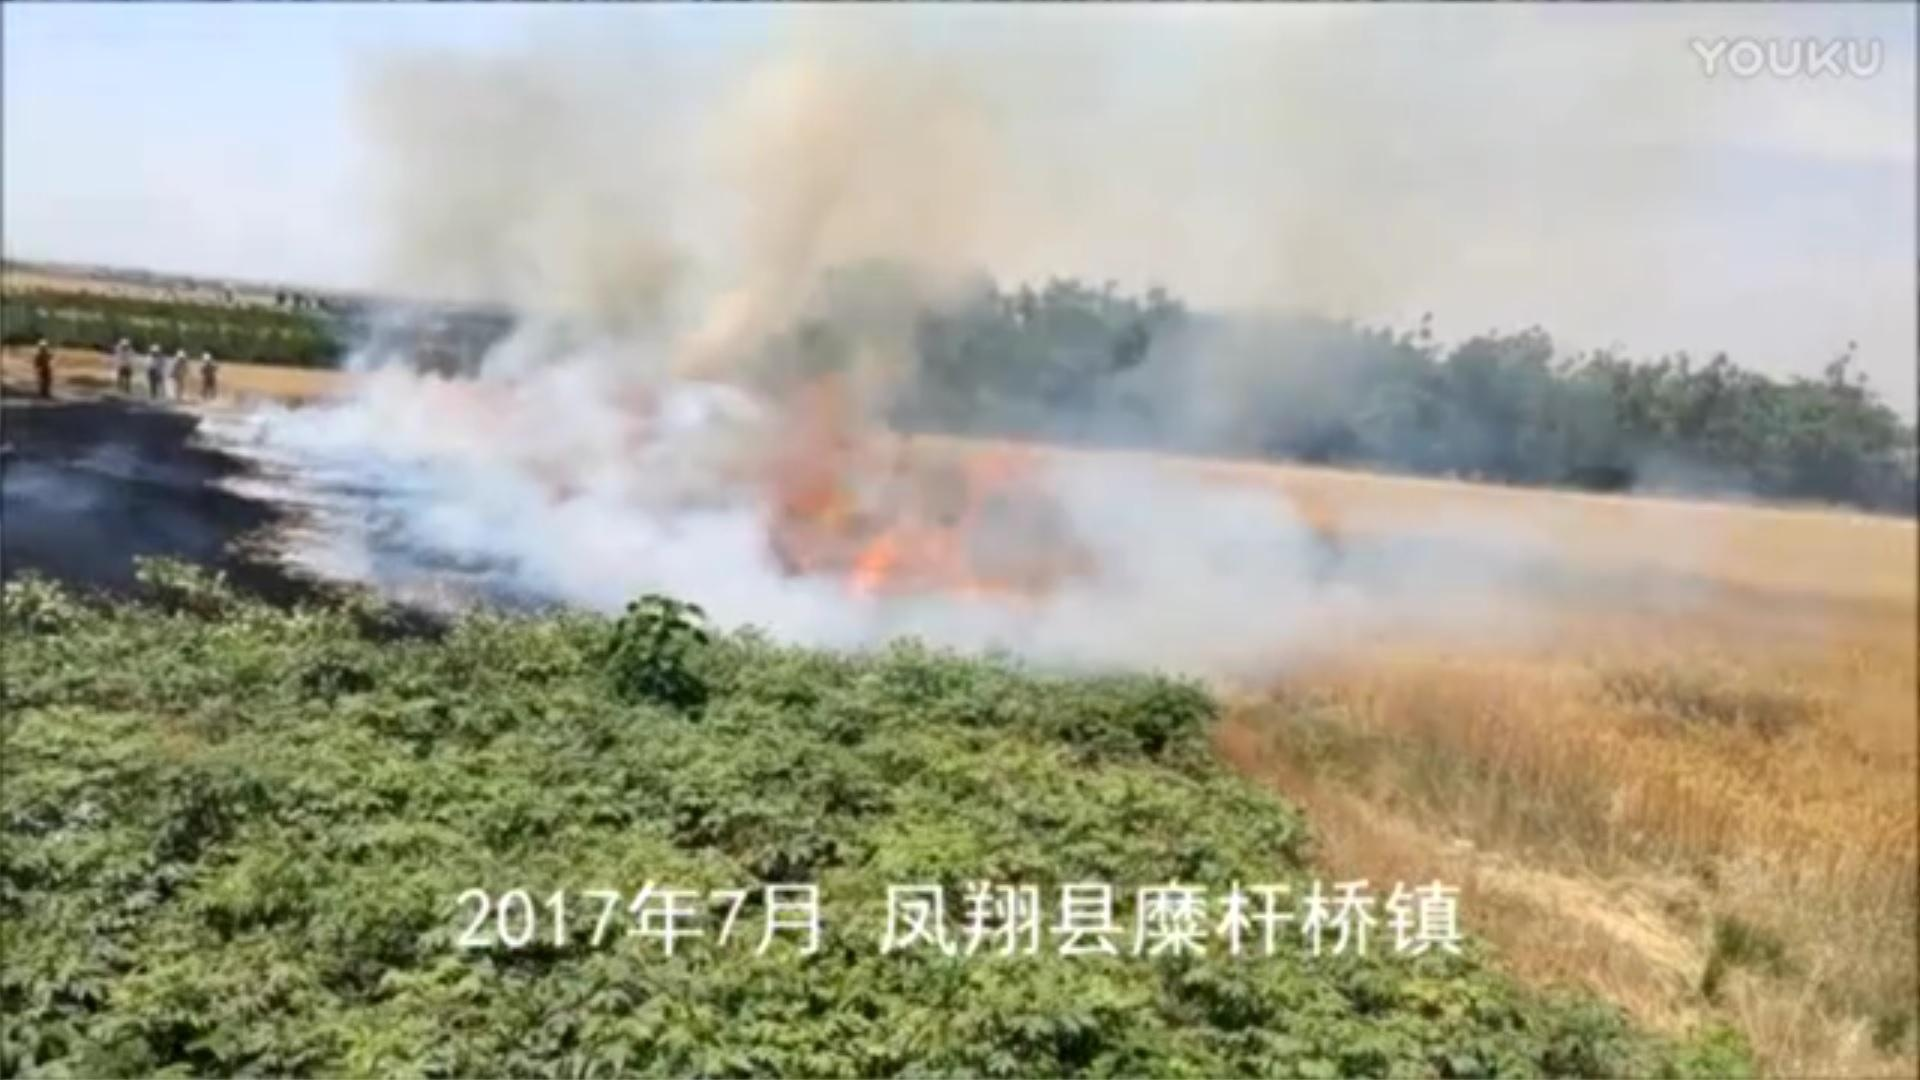fire: (758, 386, 1087, 615)
